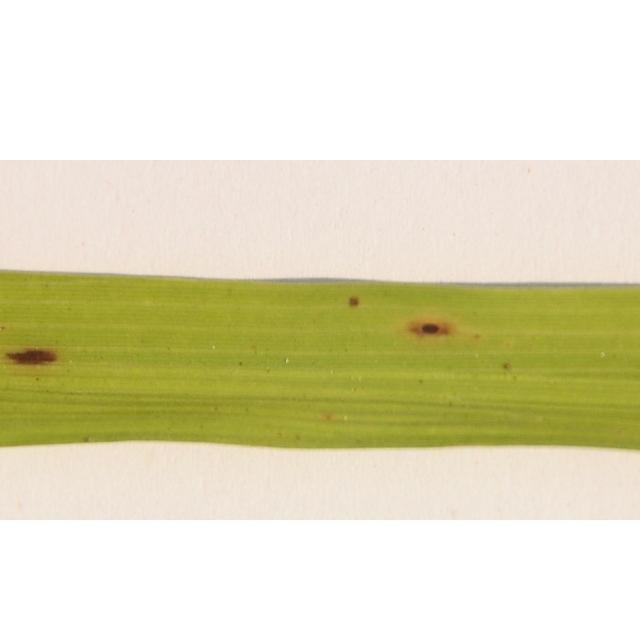Brown spot: (1, 344, 86, 369), (402, 316, 470, 344), (336, 285, 366, 315), (500, 357, 520, 379)
